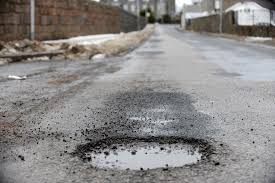pothole: (60, 128, 233, 181)
